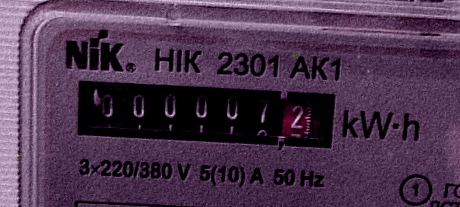0: (98, 91, 117, 119), (192, 92, 211, 120), (161, 91, 179, 120), (130, 91, 148, 119), (224, 94, 241, 123)
2: (288, 104, 306, 131)
7: (255, 95, 272, 126)
screen: (63, 67, 348, 161)
